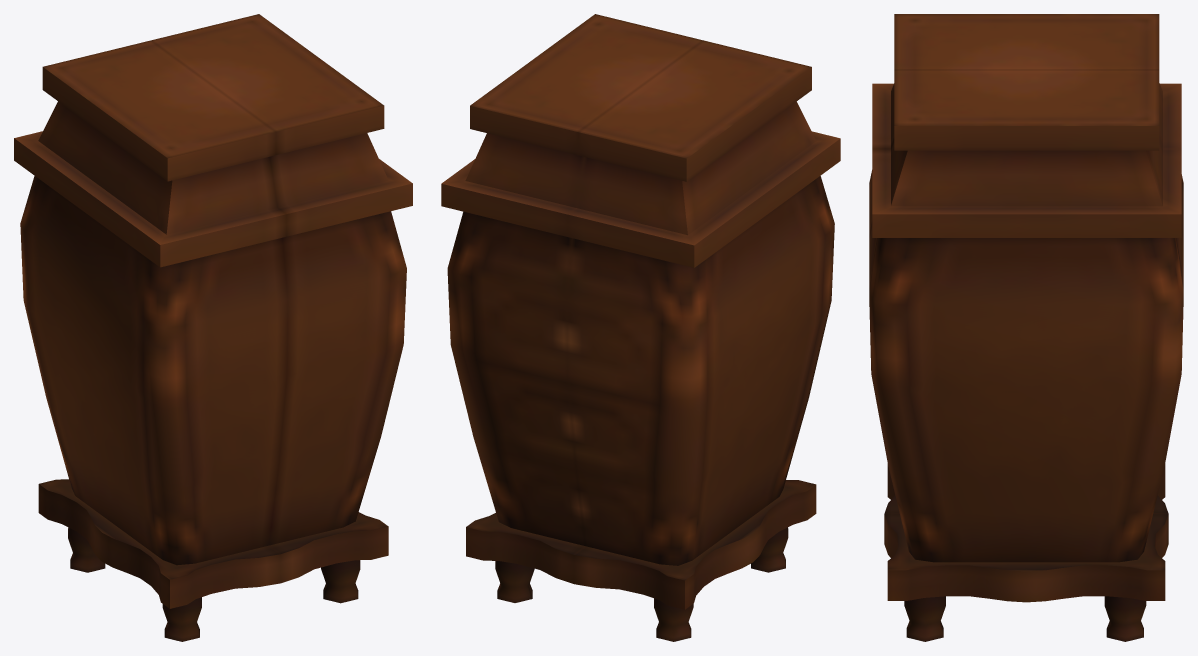
Rendered from Cabinet_02.gltf.
3 renders of one model, left to right at view 1: azimuth 30°, elevation 25°; view 2: azimuth 150°, elevation 25°; view 3: azimuth 270°, elevation 25°, orthographic. The views are drawn at different scales.
Visible parts, largest first — view 1: Cabinet_02; view 2: Cabinet_02; view 3: Cabinet_02.
Part boxes in pixels (x1,y1,x2,y2): Cabinet_02: [14, 14, 412, 641]; Cabinet_02: [441, 14, 840, 641]; Cabinet_02: [869, 14, 1183, 641].
Bounding box in the file's own units: 27.24 × 50.45 × 27.56.
Materials: 1 (1 with a texture image).
